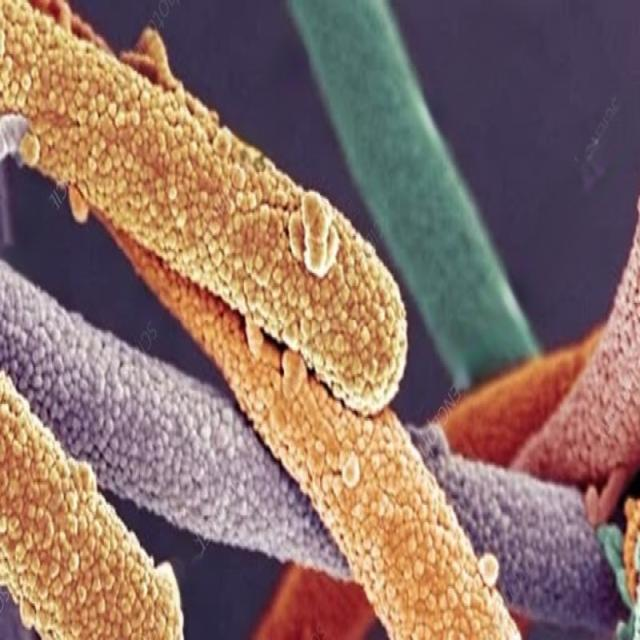Amoeba: (1, 1, 528, 640)
